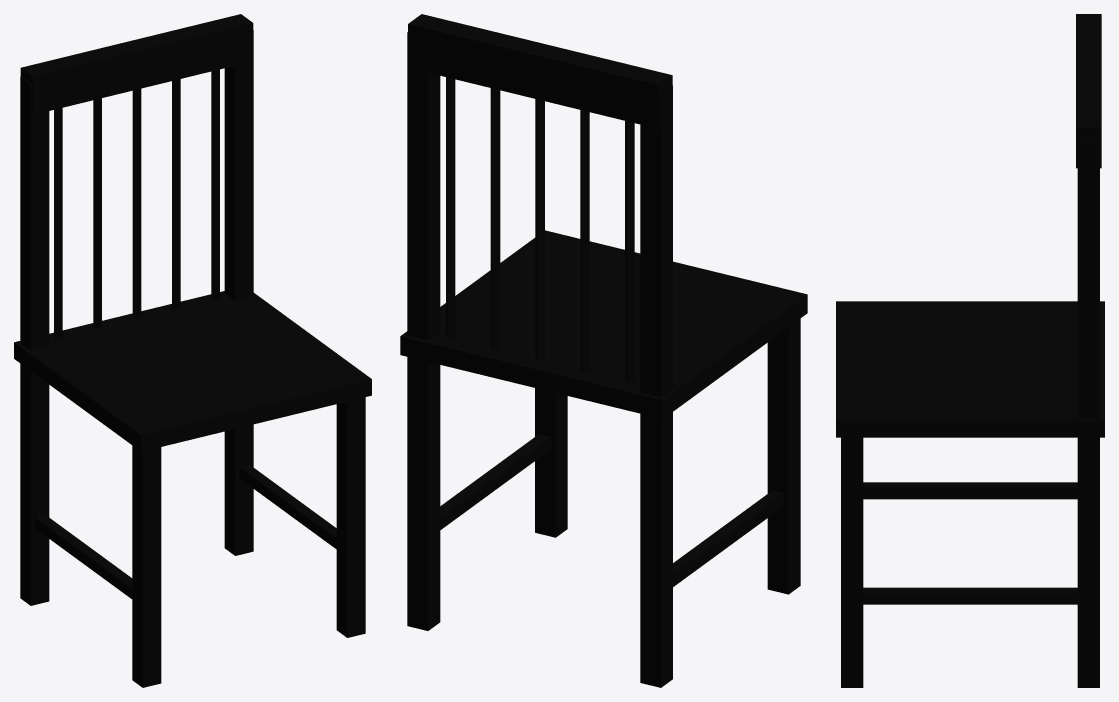
Rendered from SM_chair_ladder_pine.fbx.
3 views of the same model, side by side, from view 1: azimuth 30°, elevation 25°; view 2: azimuth 150°, elevation 25°; view 3: azimuth 270°, elevation 25° (orthographic). The views are drawn at different scales.
Parts seen in each view (by area): view 1: chair_ladder_pine; view 2: chair_ladder_pine; view 3: chair_ladder_pine.
Boxes of the visible parts, box(x1,y1,x2,y2) form: chair_ladder_pine: box(14, 14, 371, 687); chair_ladder_pine: box(400, 14, 807, 687); chair_ladder_pine: box(836, 14, 1104, 687).
Size of the model in its own units: 0.44 by 0.965 by 0.42.
